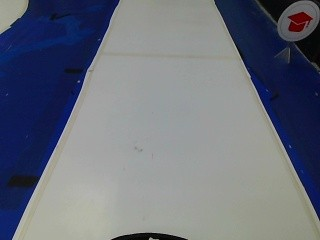school: (282, 3, 318, 41)
